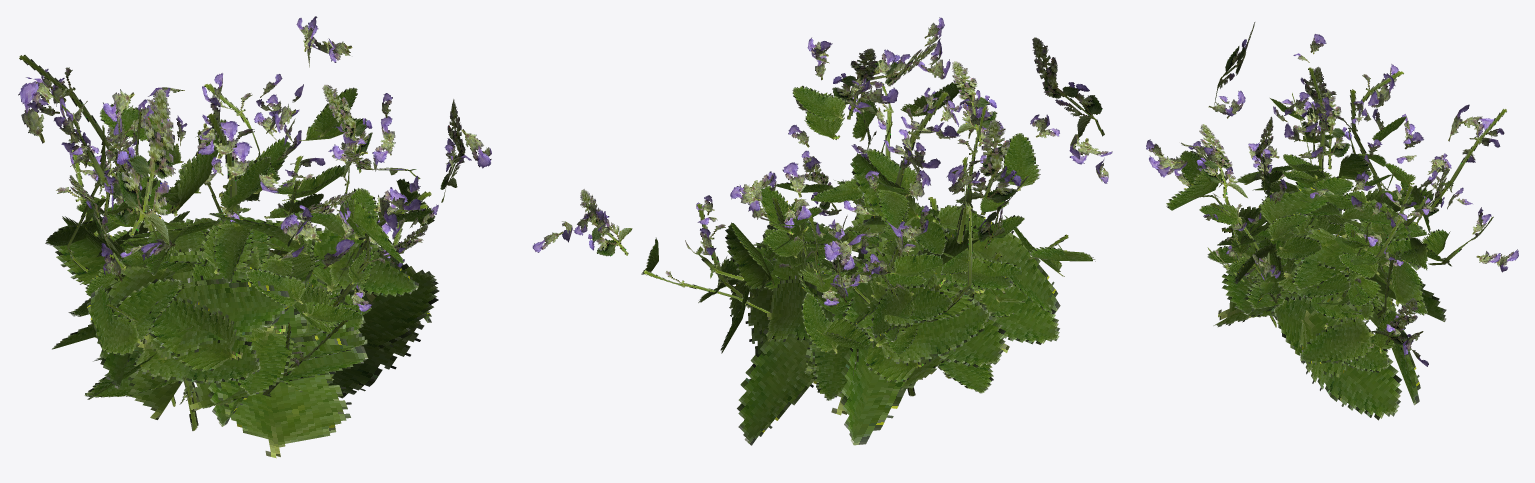
The model's file is purpleflower.glb.
3 renders of one model, left to right at view 1: azimuth 30°, elevation 25°; view 2: azimuth 150°, elevation 25°; view 3: azimuth 270°, elevation 25°, orthographic. The views are drawn at different scales.
Parts seen in each view (by area): view 1: Object_17; view 2: Object_17; view 3: Object_17.
Part boxes in pixels (box(x1,y1,x2,y2)): Object_17: box(18, 16, 491, 458); Object_17: box(532, 17, 1112, 445); Object_17: box(1146, 22, 1518, 420).
Bounding box in the file's own units: 2.59 × 2.32 × 2.24.
1 material, 1 textured.
